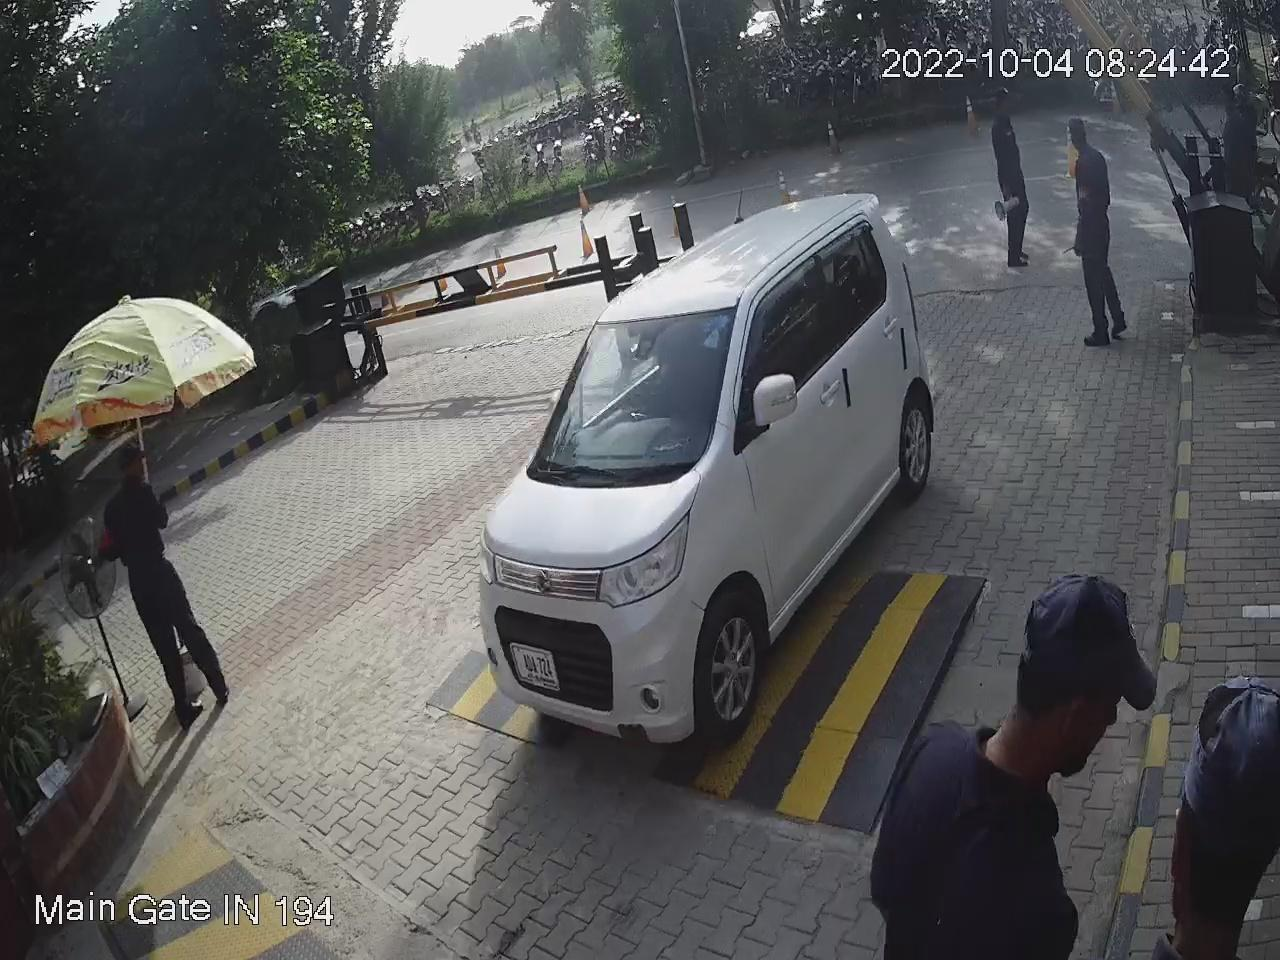windshield: (525, 303, 743, 478)
